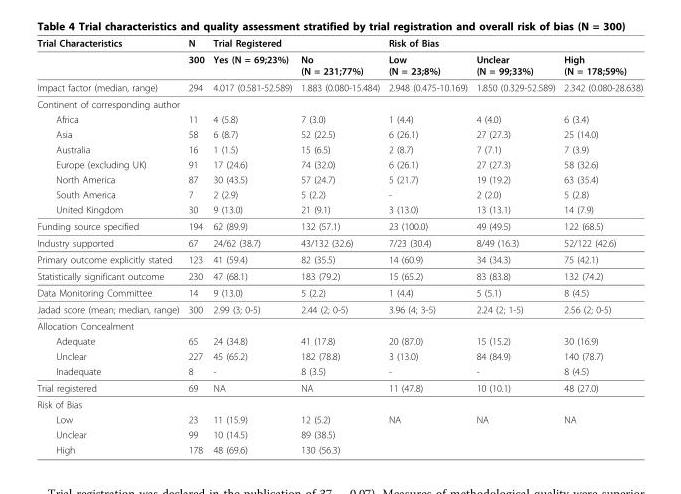table: (36, 36, 642, 454)
table column: (36, 36, 183, 454), (295, 36, 383, 454), (383, 36, 471, 454), (208, 36, 295, 454), (471, 36, 558, 454), (558, 36, 642, 454), (183, 36, 208, 454)
table column header: (36, 36, 642, 78)
table projected row header: (36, 95, 642, 111), (36, 317, 642, 333), (36, 395, 642, 411)
table row: (36, 50, 642, 78), (36, 78, 642, 95), (36, 217, 642, 234), (36, 250, 642, 267), (36, 267, 642, 284), (36, 300, 642, 317), (36, 95, 642, 111), (36, 201, 642, 217), (36, 234, 642, 250), (36, 284, 642, 300), (36, 317, 642, 333), (36, 363, 642, 379), (36, 379, 642, 395), (36, 395, 642, 411), (36, 111, 642, 126), (36, 126, 642, 141), (36, 141, 642, 156), (36, 156, 642, 171), (36, 171, 642, 186), (36, 186, 642, 201), (36, 333, 642, 348), (36, 348, 642, 363), (36, 411, 642, 426), (36, 426, 642, 441), (36, 36, 642, 50), (36, 441, 642, 454)
table spanning cell: (36, 36, 183, 78), (383, 36, 642, 50), (208, 36, 383, 50), (183, 36, 208, 78)
